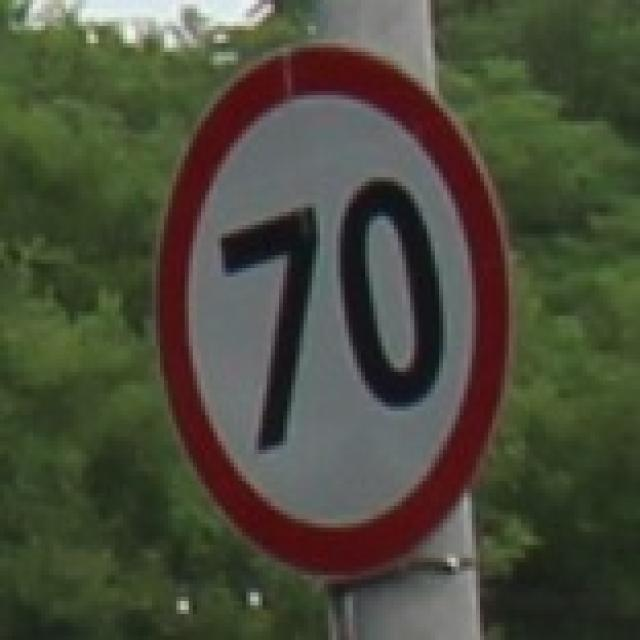Speed Limit -70-: (214, 170, 448, 459)
